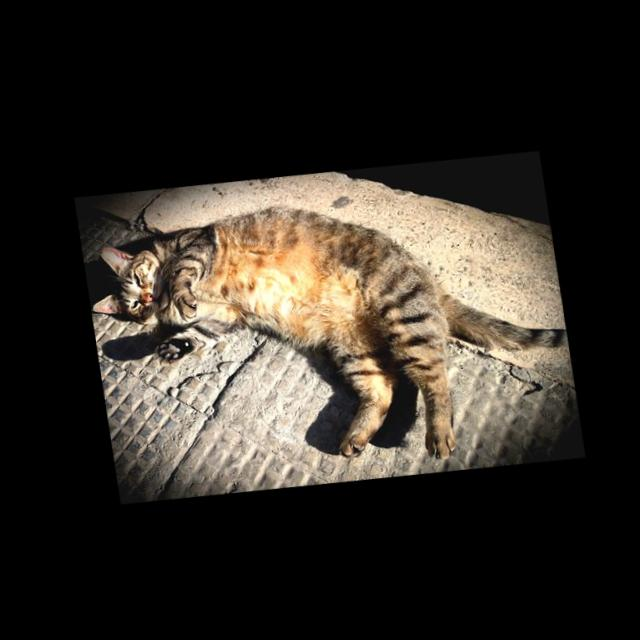animals: (77, 168, 582, 498)
